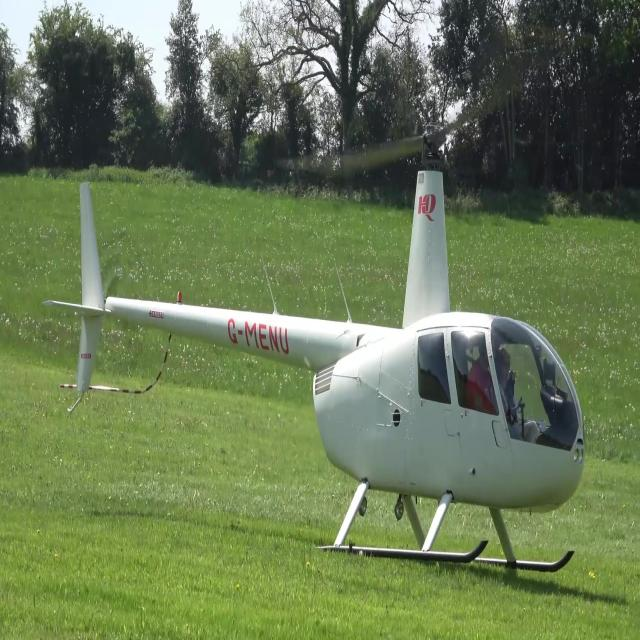CIV_HELO: (41, 124, 588, 575)
